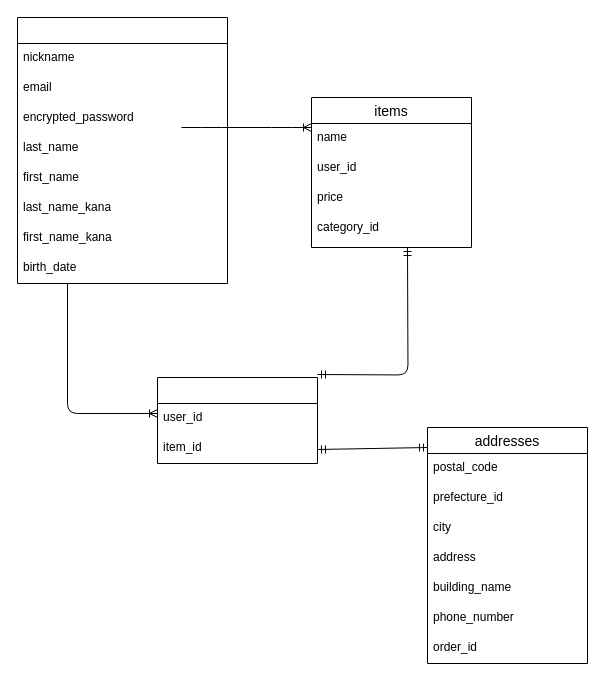
Some shapes in this 605 by 684 pixel diagram are drawn without their labels. Each missing label, with the box of its shape:
orders: (156, 376, 318, 464)
users: (16, 16, 228, 284)
